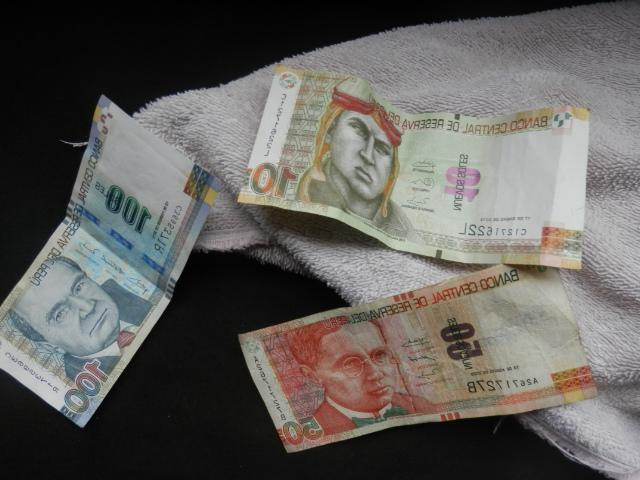B10: (237, 67, 591, 268)
B100: (3, 94, 215, 427)
B50: (236, 272, 597, 453)
